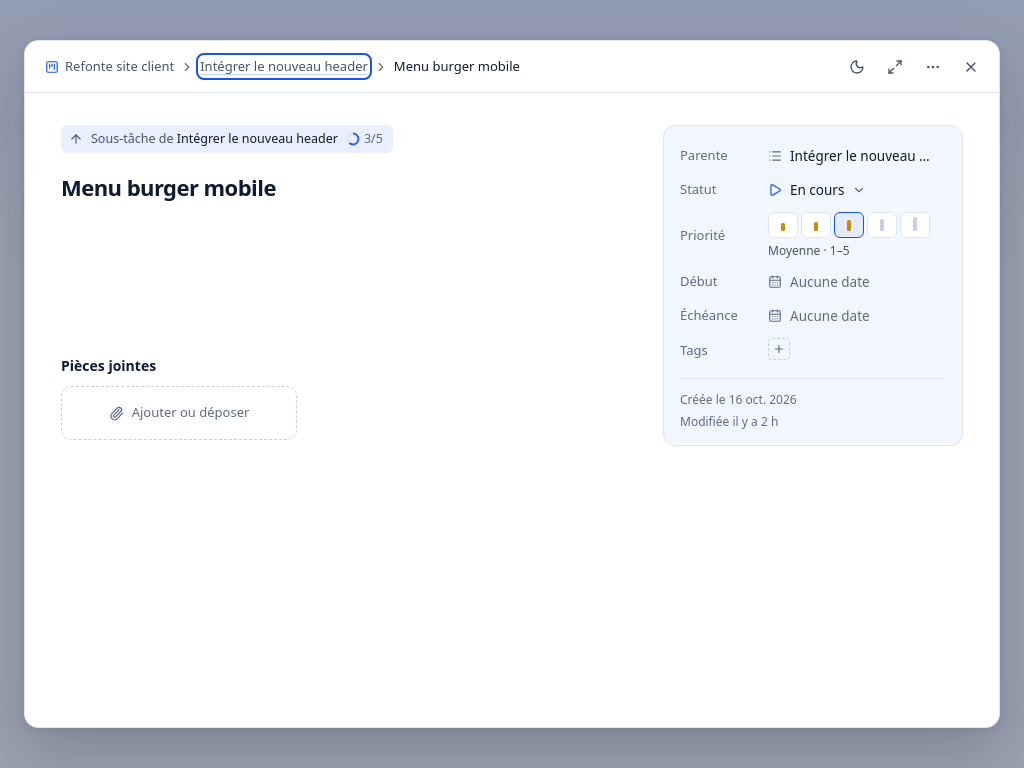
TaskDetail with sub-tasks › deletes a sub-task from its window and returns to the parent
The width and height of the screenshot is (1024, 768).
Press Enter in the button named "Plus d'actions", box [917, 50, 949, 82]
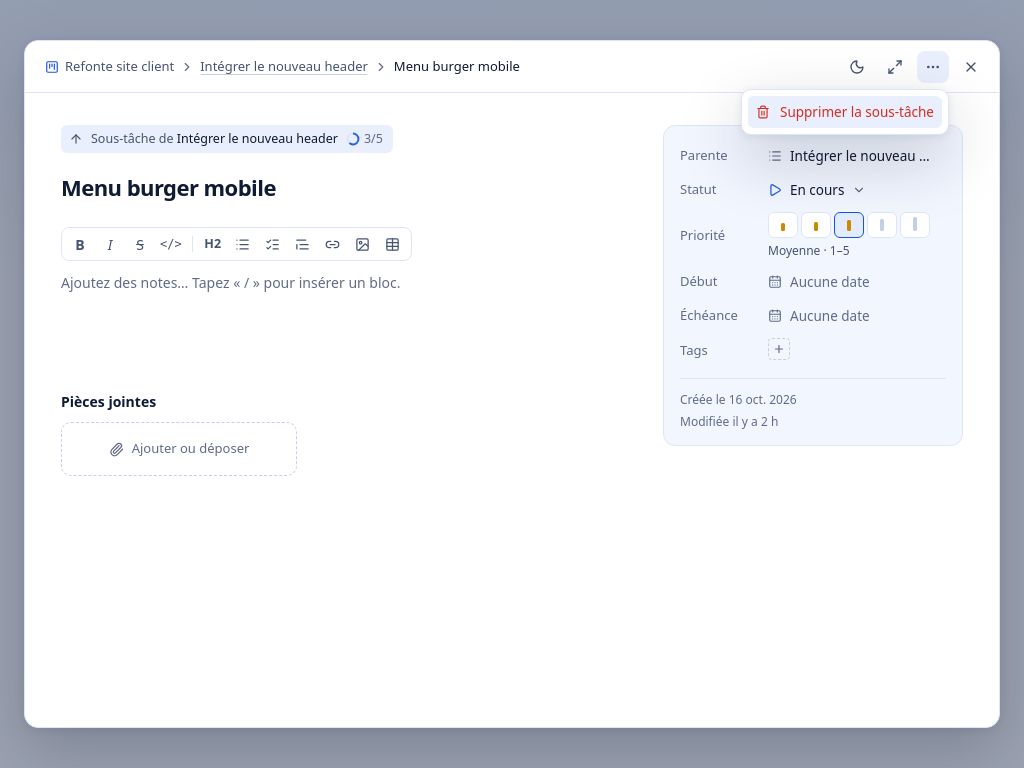
Click the menu item "Supprimer la sous-tâche": (845, 112) [748, 96, 942, 128]
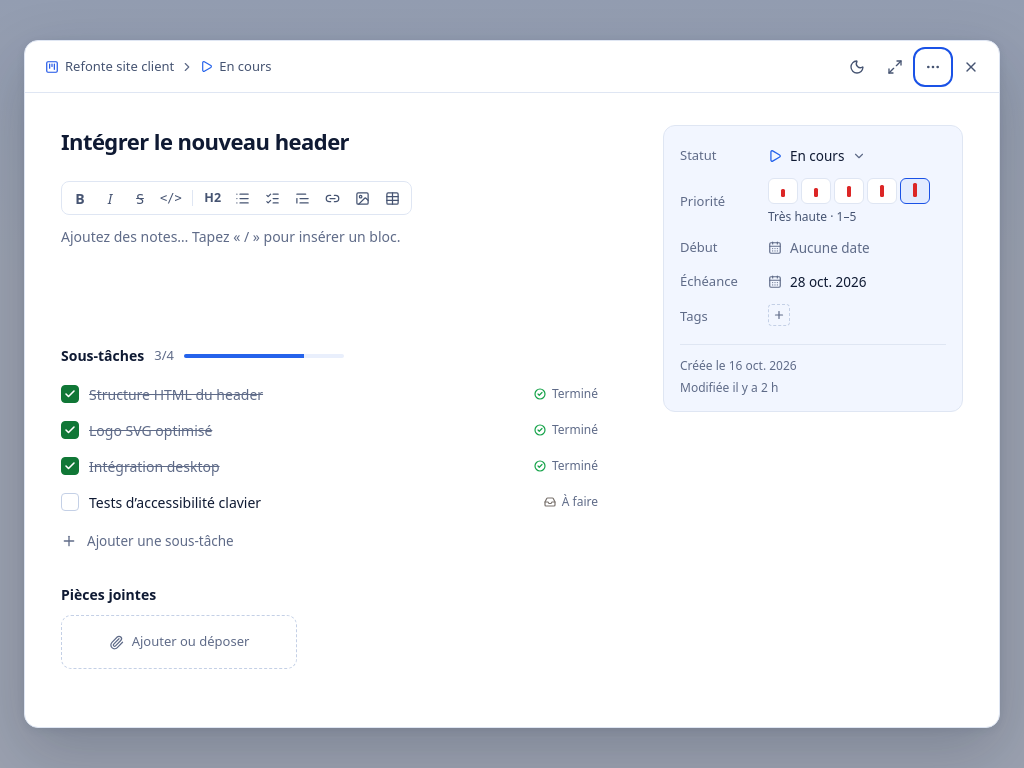
Now the heading "Sous-tâches" is shown, box [61, 345, 144, 366]
Now the text "Menu burger mobile" is gone
